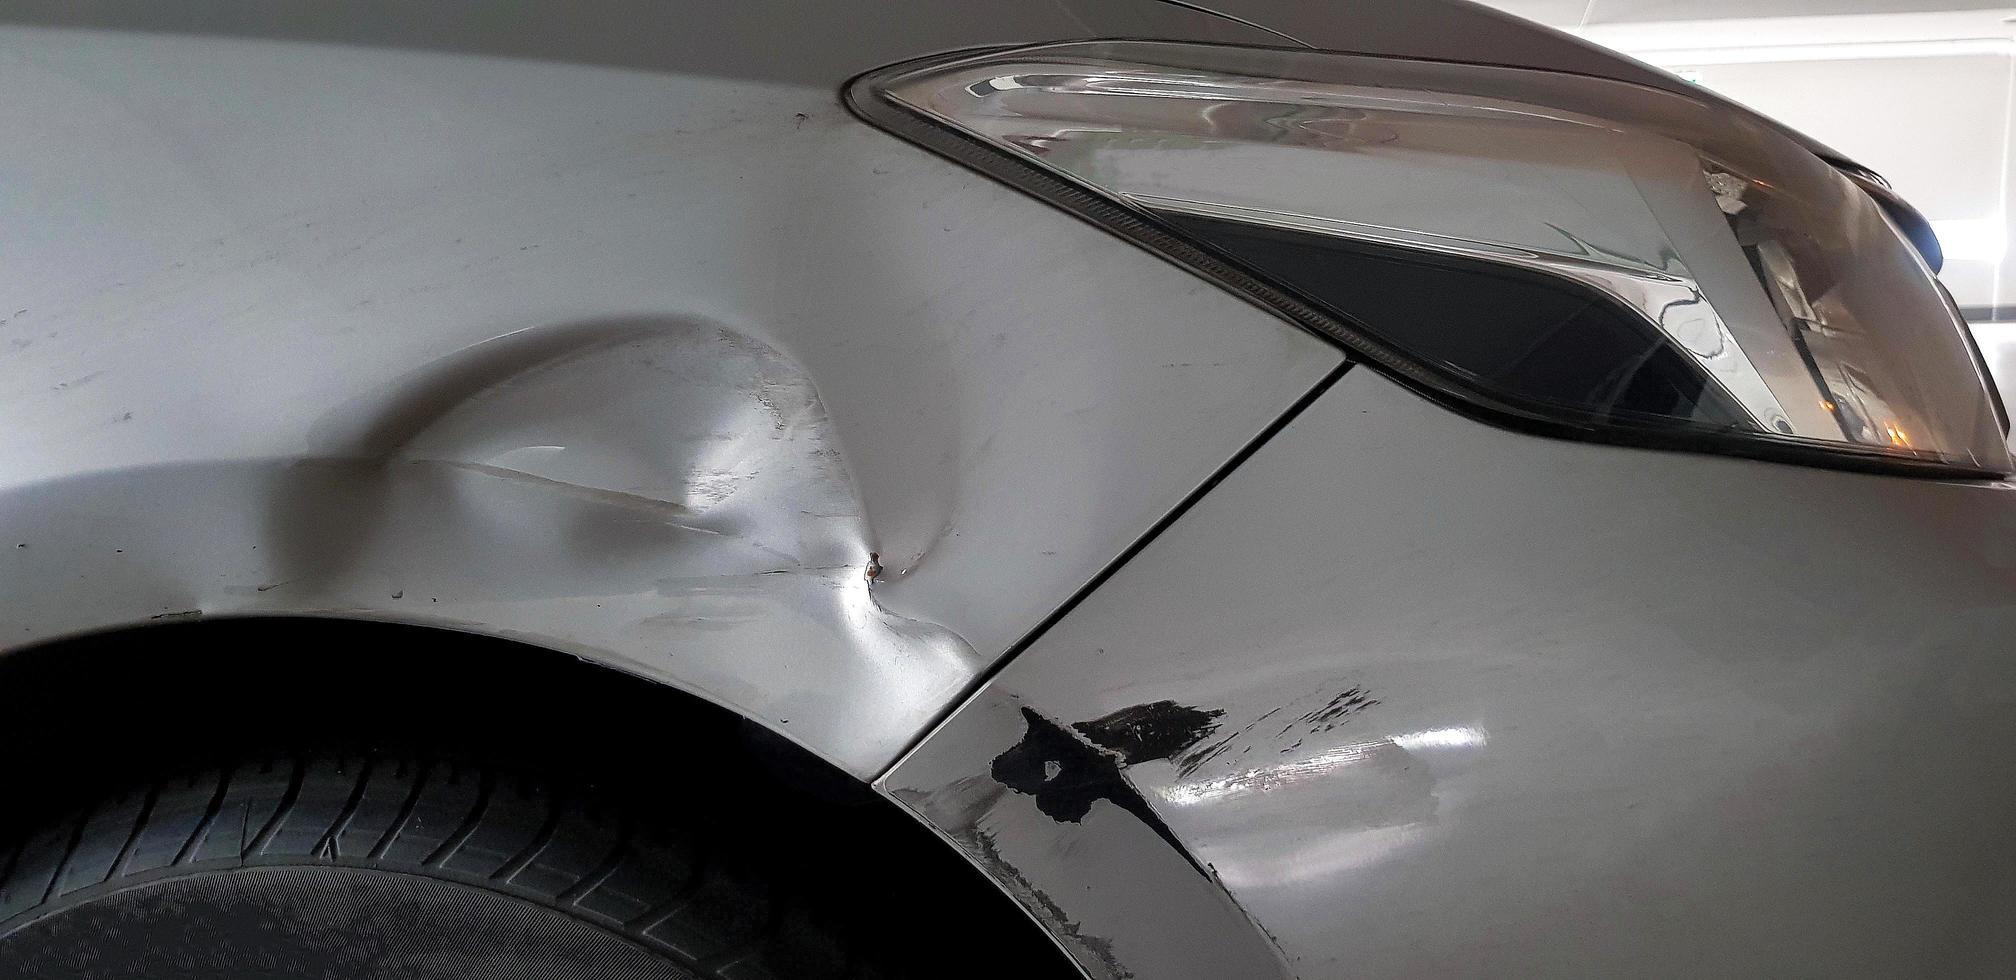dent: (207, 302, 993, 688)
scratch: (879, 665, 1408, 979)
